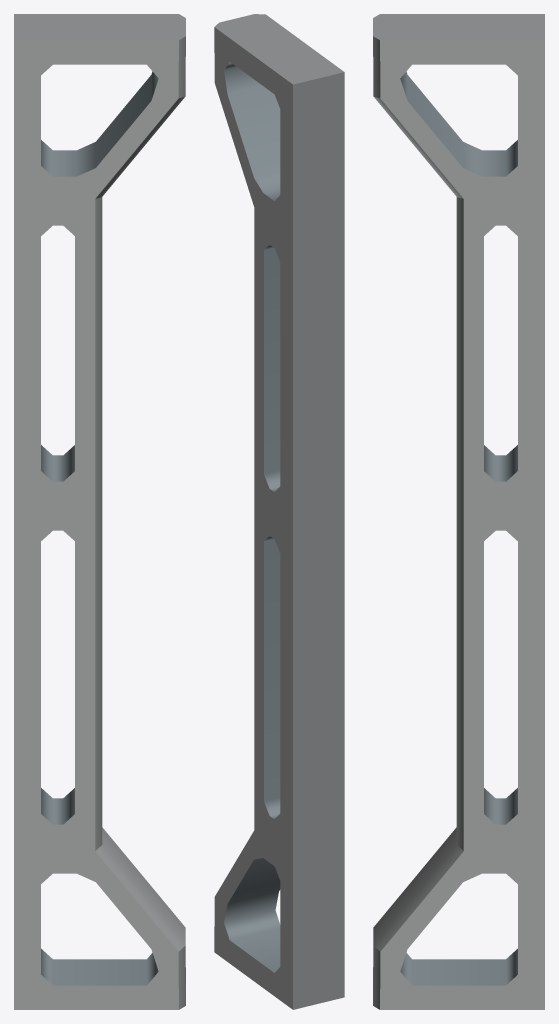
The model's file is Column_001.fbx.
3 views of the same model, side by side, from view 1: azimuth 90°, elevation 25°; view 2: azimuth 210°, elevation 25°; view 3: azimuth 270°, elevation 25° (orthographic). The views are drawn at different scales.
Parts seen in each view (by area): view 1: Column_001; view 2: Column_001; view 3: Column_001.
Part boxes in pixels (left/top/right/bottom): Column_001: left=14, top=14, right=185, bottom=1009; Column_001: left=214, top=14, right=344, bottom=1009; Column_001: left=373, top=14, right=544, bottom=1009.
Bounding box in the file's own units: 22.41 × 61.88 × 385.
